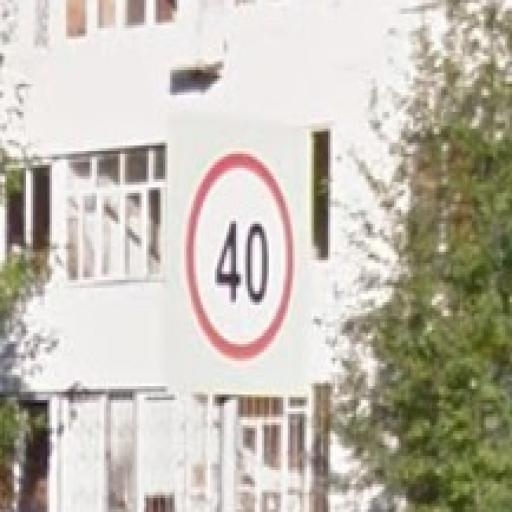traffic_sign: (185, 146, 296, 362)
